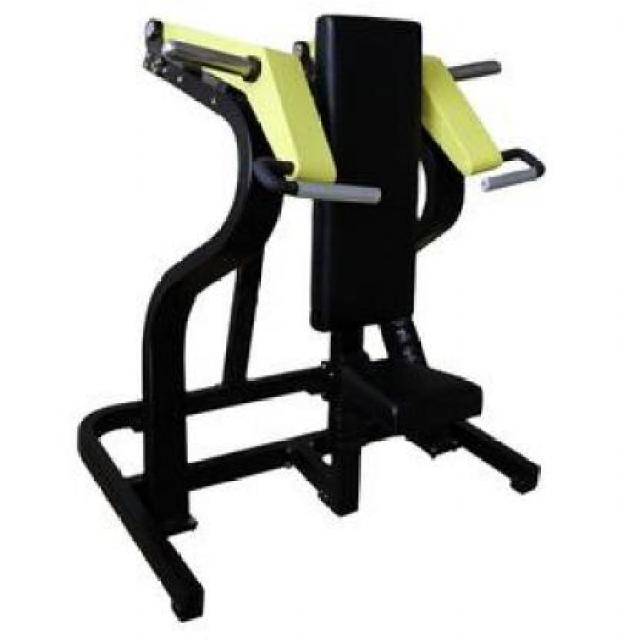shoulder press machine: (82, 17, 544, 617)
